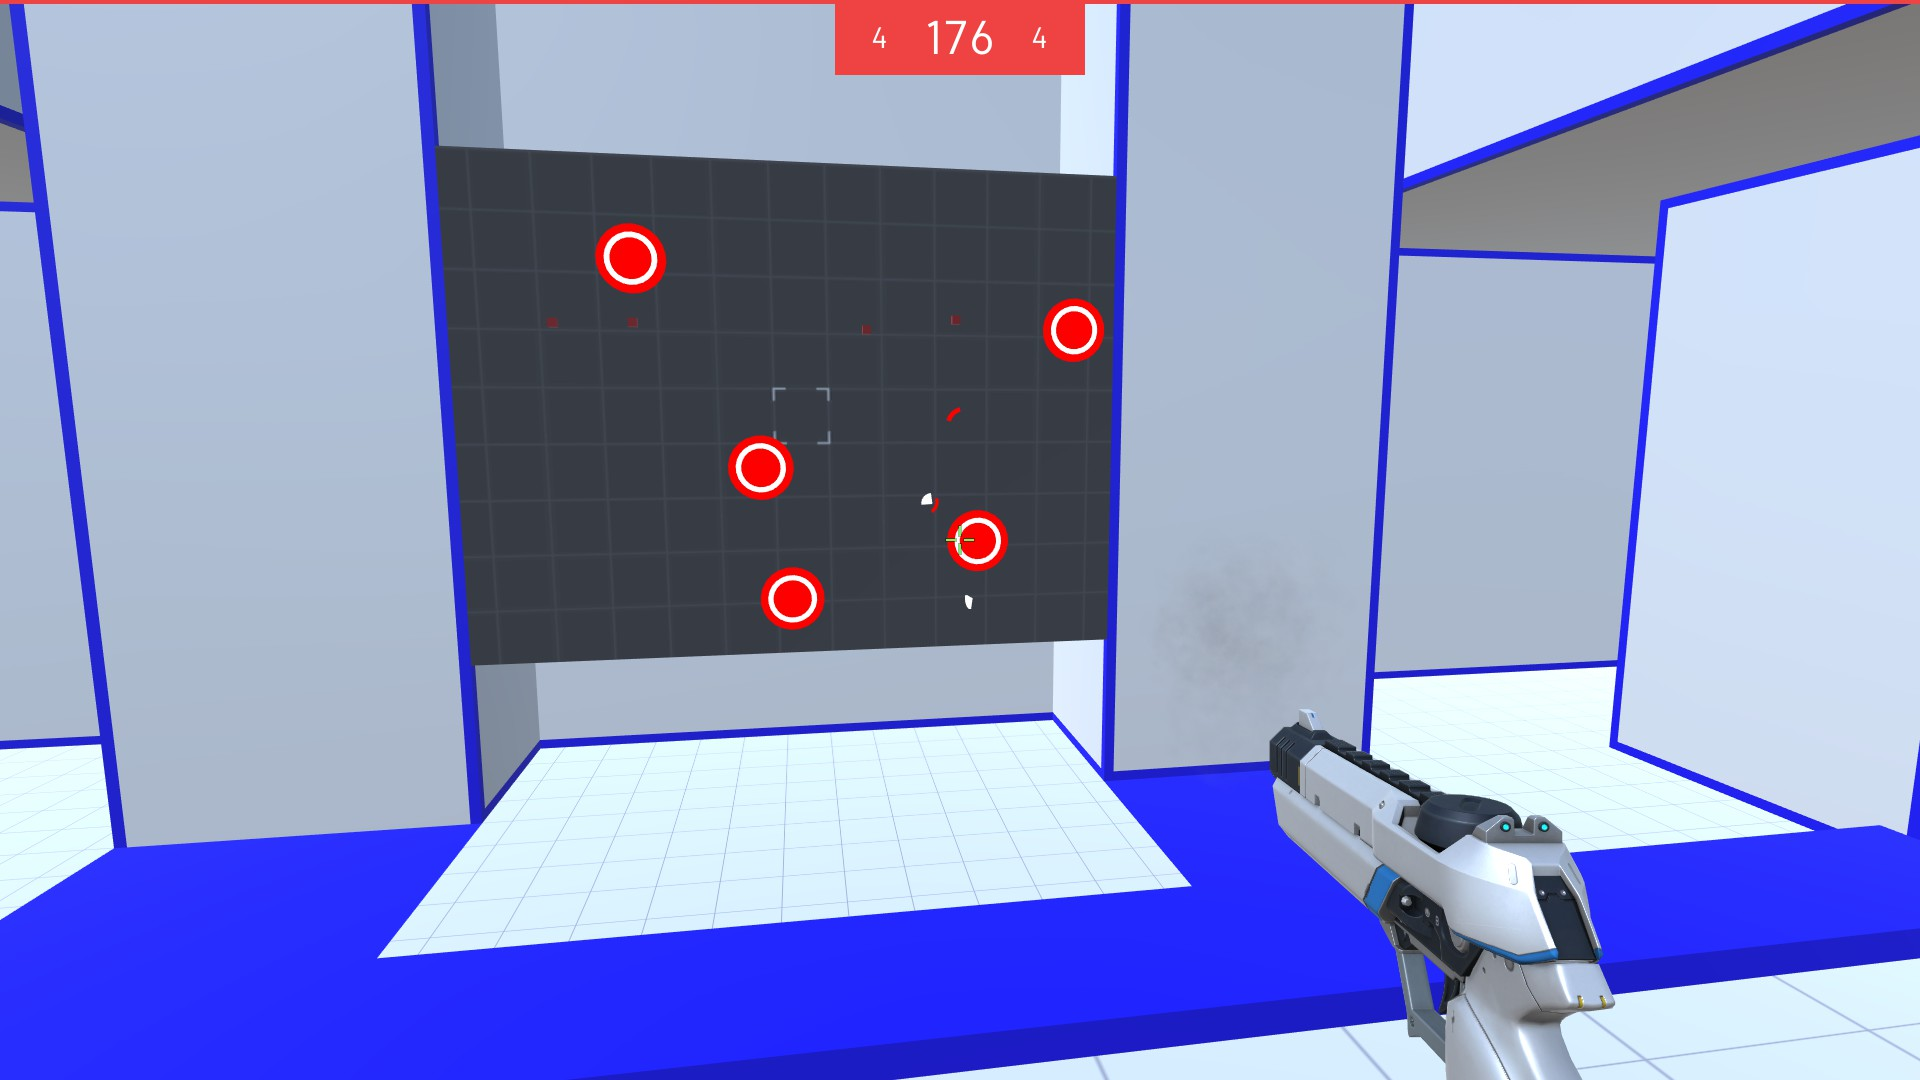target: (593, 218, 674, 299), (723, 433, 799, 505), (760, 562, 829, 633), (942, 506, 1007, 578), (1040, 295, 1105, 367)
